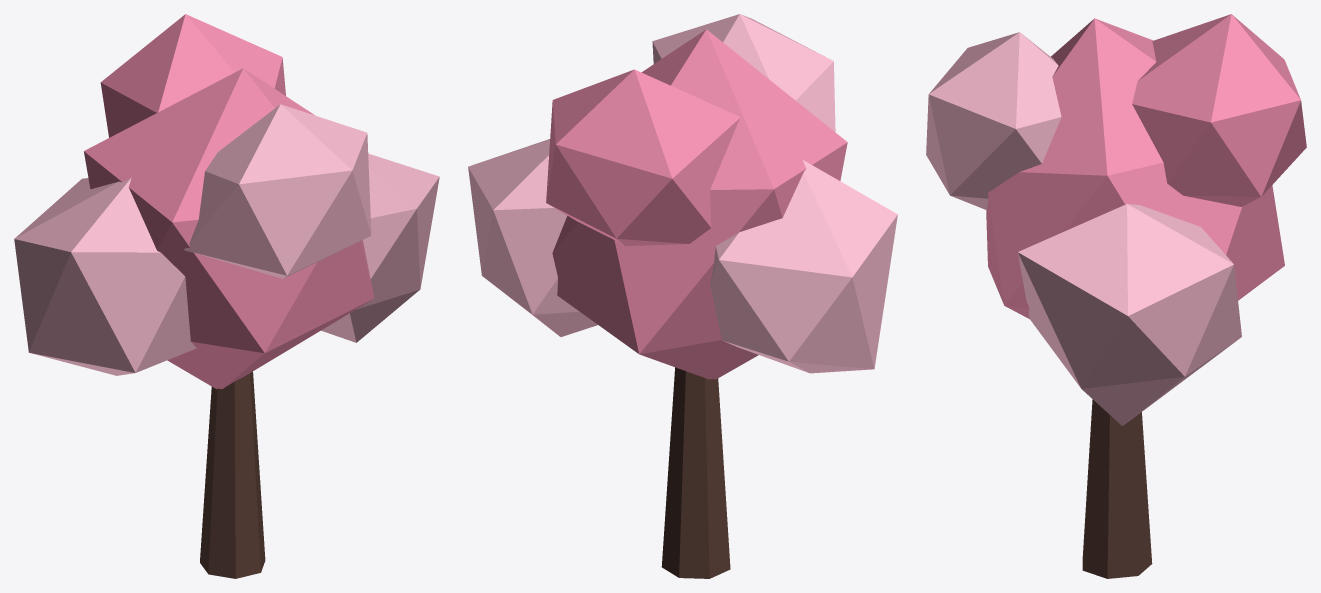
File: sakura.glb
The picture shows the model from 3 angles, left to right: view 1: azimuth 30°, elevation 25°; view 2: azimuth 150°, elevation 25°; view 3: azimuth 270°, elevation 25°; orthographic projection. The views are drawn at different scales.
Parts seen in each view (by area): view 1: sakura; view 2: sakura; view 3: sakura.
Part boxes in pixels (x1,y1,x2,y2): sakura: (14,14,439,578); sakura: (468,14,897,578); sakura: (926,14,1306,578).
Size of the model in its own units: 2.46 by 3 by 1.87.
